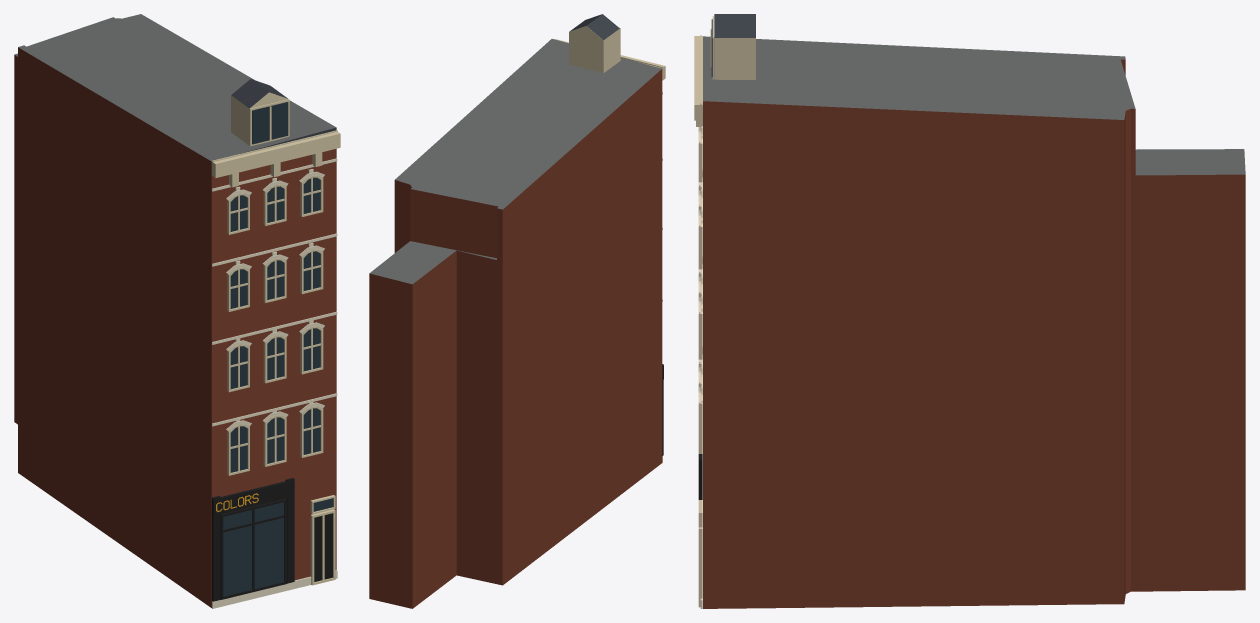
The model's file is recipe-bilder-152669.glb.
3 renders of one model, left to right at view 1: azimuth 30°, elevation 25°; view 2: azimuth 150°, elevation 25°; view 3: azimuth 270°, elevation 25°, orthographic. The views are drawn at different scales.
Visible parts, largest first — view 1: bilder-152669; view 2: bilder-152669; view 3: bilder-152669.
Part boxes in pixels (x1,y1,x2,y2): bilder-152669: (14, 14, 340, 608); bilder-152669: (369, 14, 665, 608); bilder-152669: (694, 14, 1245, 608).
Bounding box in the file's own units: 5.36 × 19.35 × 17.25.
